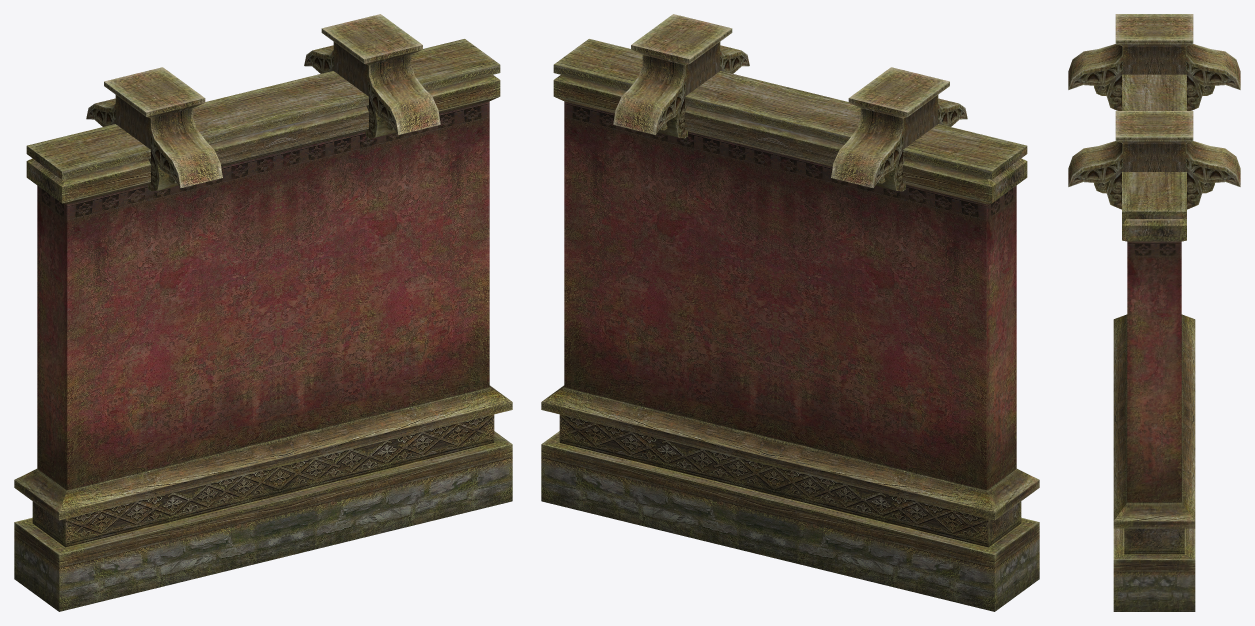
The model's file is fortressa_wall_a_00.fbx.
The picture shows the model from 3 angles, left to right: view 1: azimuth 30°, elevation 25°; view 2: azimuth 150°, elevation 25°; view 3: azimuth 270°, elevation 25°; orthographic projection. The views are drawn at different scales.
Visible parts, largest first — view 1: fortressA_wall_A_00; view 2: fortressA_wall_A_00; view 3: fortressA_wall_A_00.
Part boxes in pixels (x1,y1,x2,y2): fortressA_wall_A_00: (14,14,512,611); fortressA_wall_A_00: (541,14,1039,611); fortressA_wall_A_00: (1068,14,1240,611).
Size of the model in its own units: 13.79 by 13.86 by 4.97.
